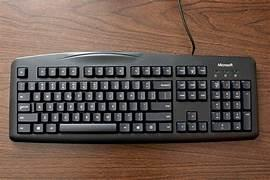keyboard: (8, 50, 258, 143)
